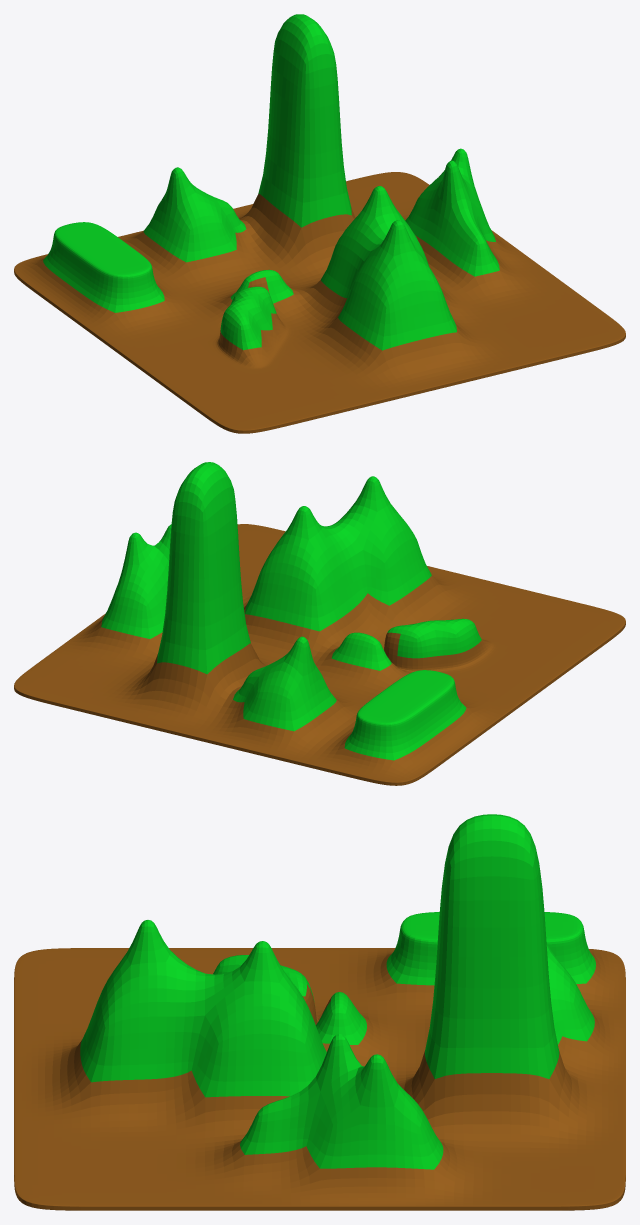
File: Glass.fbx
3 renders of one model, top to bottom at view 1: azimuth 30°, elevation 25°; view 2: azimuth 150°, elevation 25°; view 3: azimuth 270°, elevation 25°, orthographic. The views are drawn at different scales.
Parts seen in each view (by area): view 1: Cube; view 2: Cube; view 3: Cube.
Part boxes in pixels (<box>): Cube: <box>14,14,625,433</box>; Cube: <box>14,462,625,785</box>; Cube: <box>14,814,625,1210</box>.
Bounding box in the file's own units: 200 × 108 × 200.
